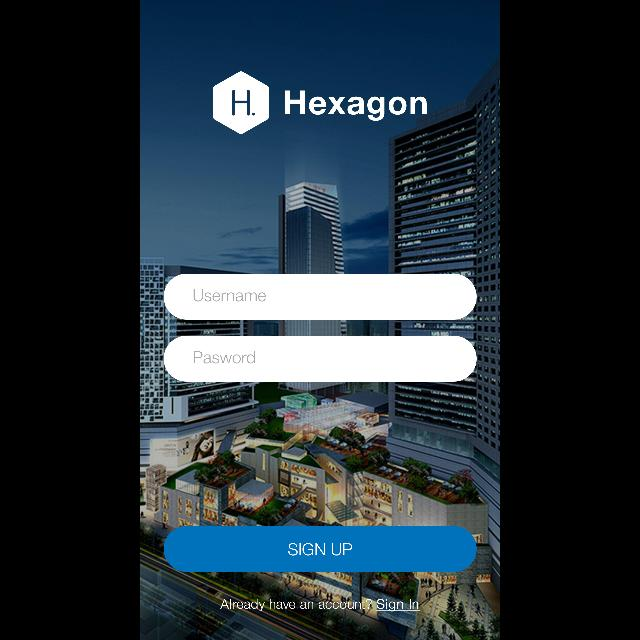backgroundimage: (140, 1, 500, 640)
image: (213, 72, 269, 134)
input: (164, 274, 476, 320), (164, 336, 476, 382)
text: (285, 90, 427, 122), (220, 598, 420, 612), (194, 290, 266, 302), (193, 352, 255, 364)
textbutton: (164, 526, 476, 572)
